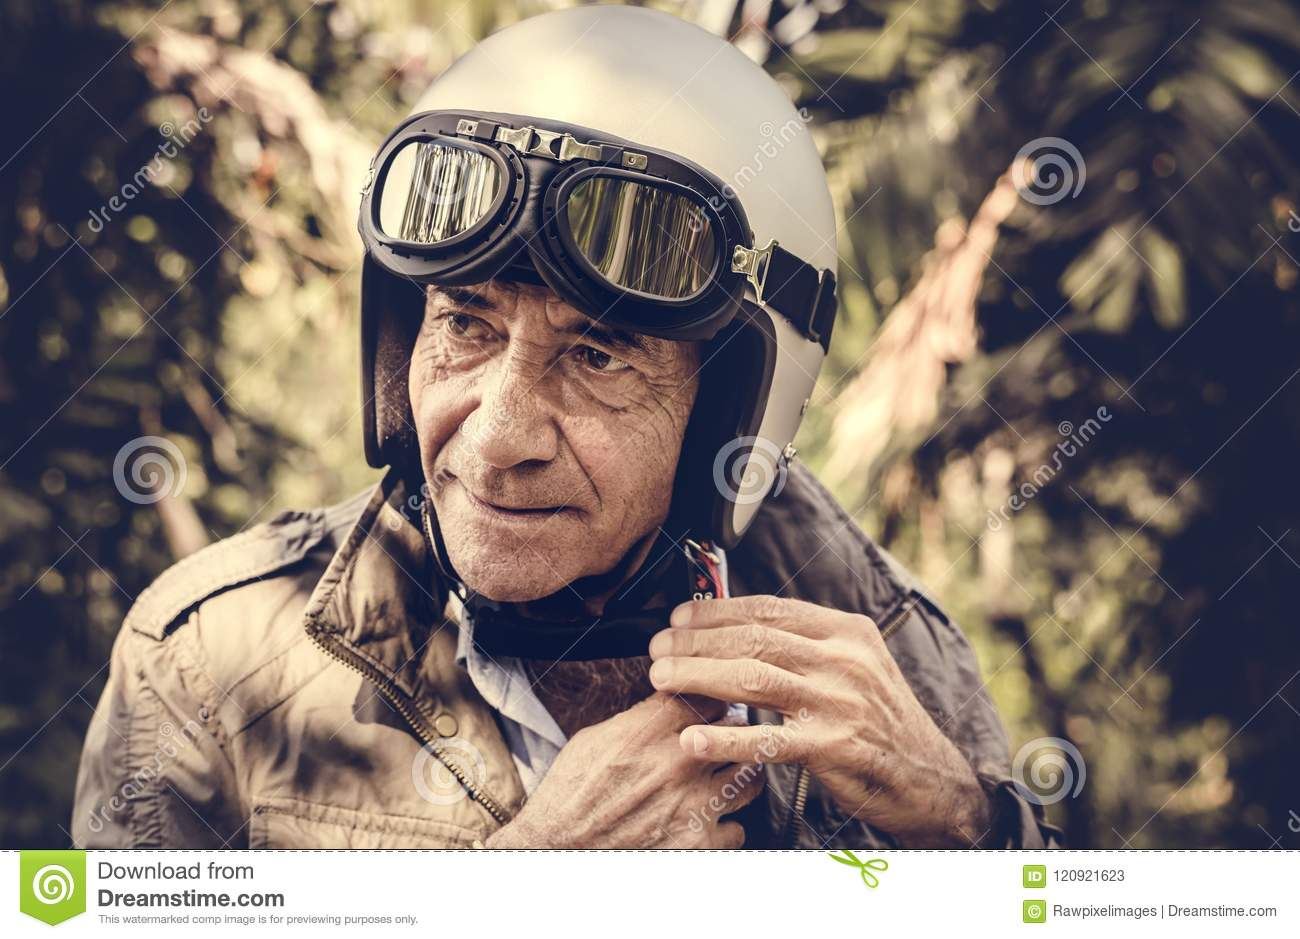helmet: (385, 25, 826, 526)
